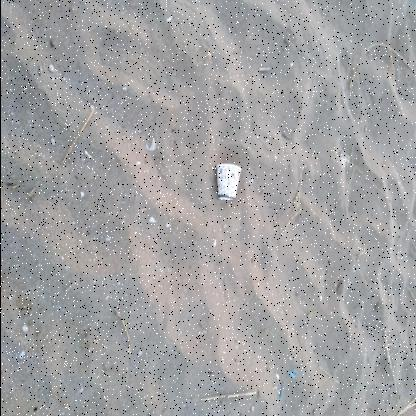cardboard: (215, 163, 241, 201)
